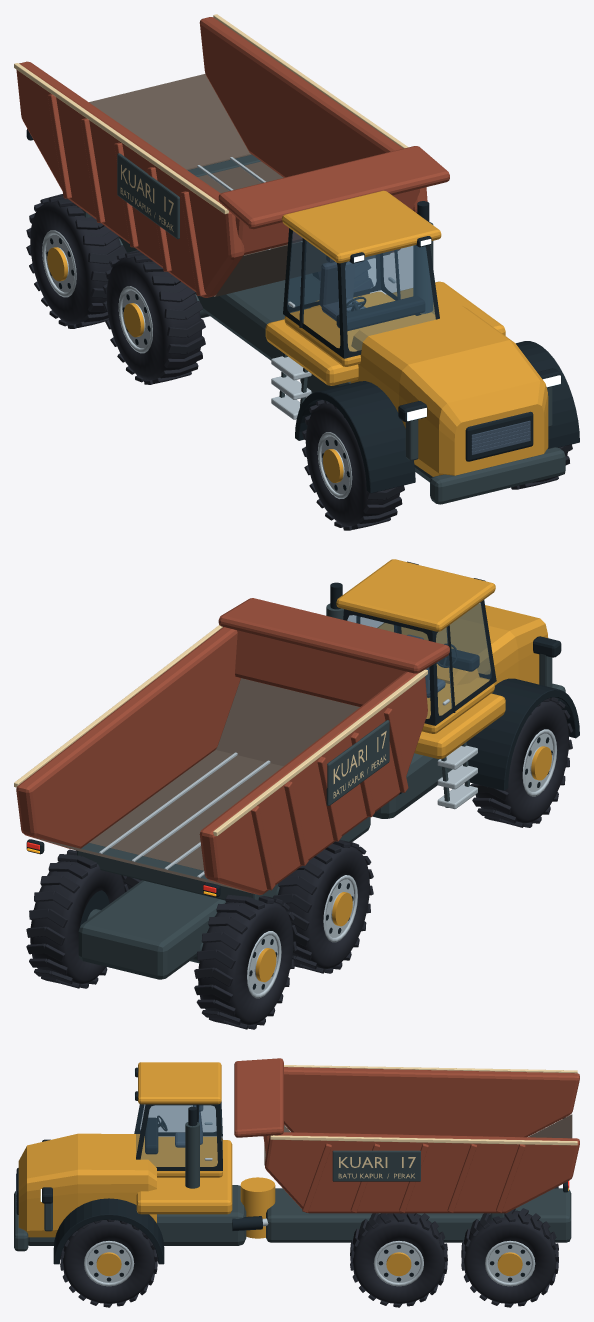
3 views of the same model, one above another, from view 1: azimuth 30°, elevation 25°; view 2: azimuth 150°, elevation 25°; view 3: azimuth 270°, elevation 25° (orthographic). The views are drawn at different scales.
Visible parts, largest first — view 1: Perak Articulated Quarry Hauler; view 2: Perak Articulated Quarry Hauler; view 3: Perak Articulated Quarry Hauler.
Boxes of the visible parts, x1,y1,x2,y2 form: Perak Articulated Quarry Hauler: [14, 14, 579, 530]; Perak Articulated Quarry Hauler: [14, 559, 579, 1029]; Perak Articulated Quarry Hauler: [14, 1058, 579, 1307].
Size of the model in its own units: 2.99 by 3.36 by 9.47.
